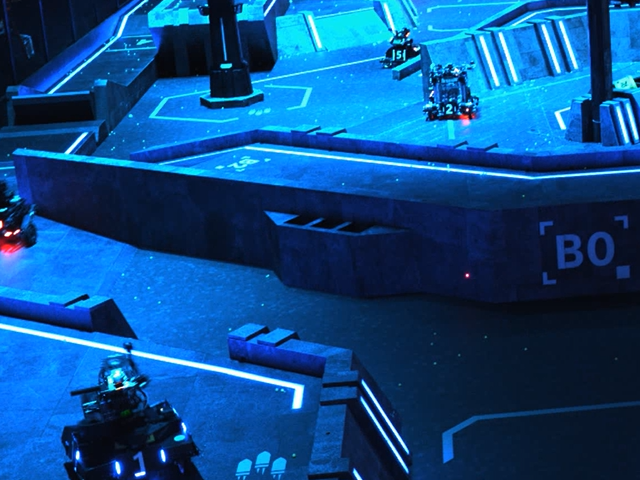rm: (64, 355, 205, 480), (428, 64, 482, 120), (2, 176, 40, 252), (382, 26, 419, 64)
